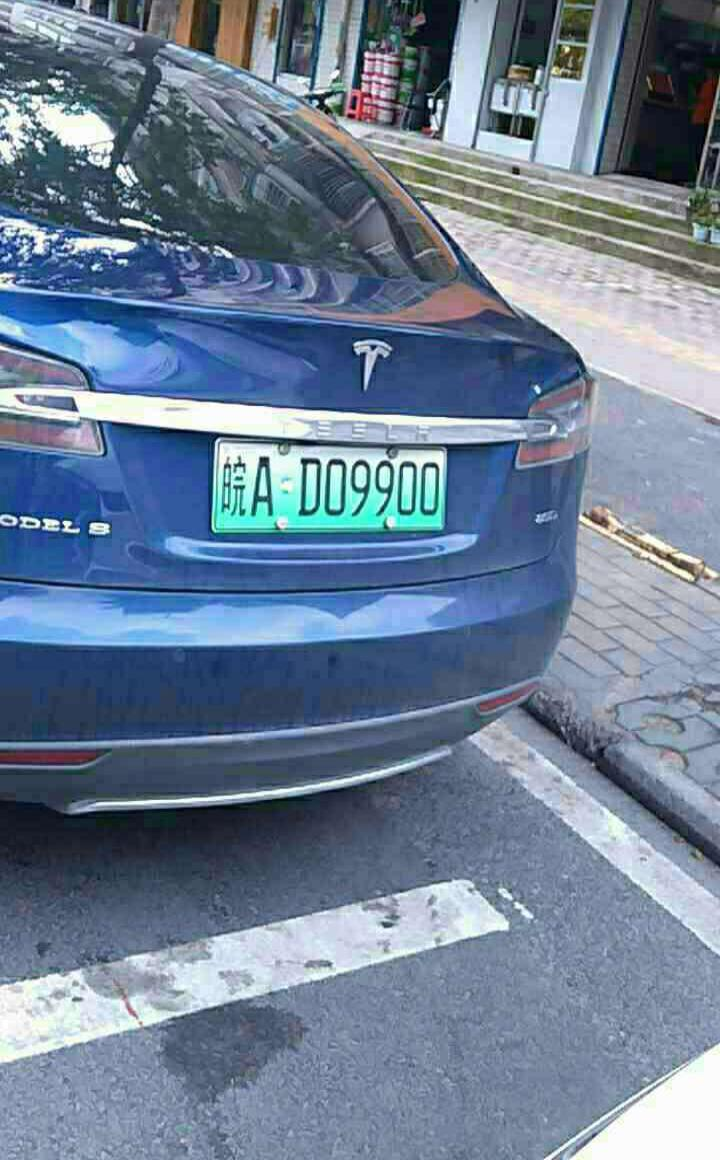car_id: (212, 449, 448, 532)
